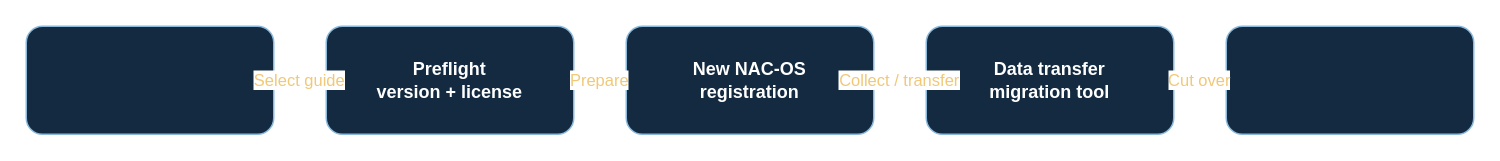
Some shapes in this 1500 by 161 pixel diagram are drawn without their labels. The centre of each missing label's shape, as x and y in pixels:
CentOS topology CA / Manager: (149,79)
Cutover IP + allowaccess: (1349,79)
